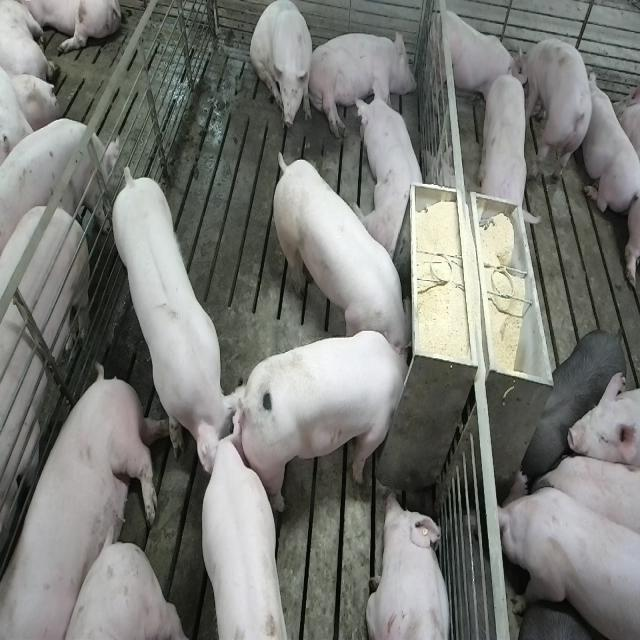Feeding: (242, 330, 418, 512), (268, 142, 411, 360)
Lateral_lying: (3, 364, 168, 640), (307, 28, 417, 141)
Sitting: (250, 2, 315, 137)
Standing: (110, 156, 246, 476), (0, 197, 92, 640), (498, 479, 638, 640), (199, 433, 290, 640), (520, 328, 630, 485), (0, 112, 119, 253), (521, 33, 595, 184), (478, 63, 538, 240), (538, 450, 640, 544)
Sternal_lying: (366, 489, 453, 640), (360, 85, 429, 260), (427, 5, 521, 105), (579, 73, 639, 214)
